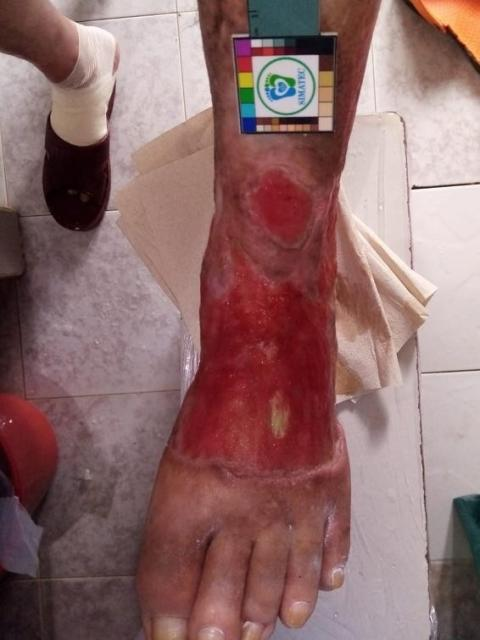wound: (173, 181, 340, 479), (247, 165, 333, 249)
